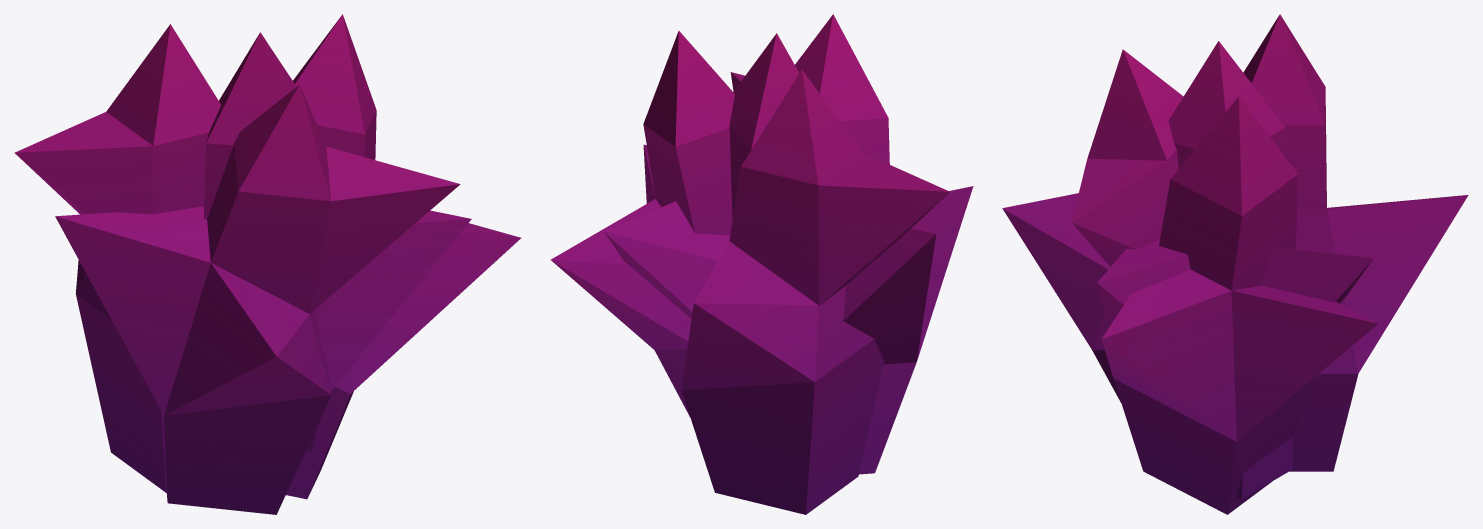
Rendered from Asset_Cristales.fbx.
The picture shows the model from 3 angles, left to right: view 1: azimuth 30°, elevation 25°; view 2: azimuth 150°, elevation 25°; view 3: azimuth 270°, elevation 25°; orthographic projection. The views are drawn at different scales.
Visible parts, largest first — view 1: prop_cristal_mediano, prop_cristal_chico; view 2: prop_cristal_mediano, prop_cristal_chico; view 3: prop_cristal_mediano, prop_cristal_chico.
Boxes of the visible parts, x1=… form: prop_cristal_mediano: x1=14, y1=14, x2=520, y2=514; prop_cristal_chico: x1=203, y1=32, x2=471, y2=450; prop_cristal_mediano: x1=550, y1=14, x2=973, y2=514; prop_cristal_chico: x1=604, y1=33, x2=799, y2=318; prop_cristal_mediano: x1=1002, y1=14, x2=1468, y2=514; prop_cristal_chico: x1=1097, y1=41, x2=1373, y2=498.
Size of the model in its own units: 16.83 by 17.77 by 16.91.
